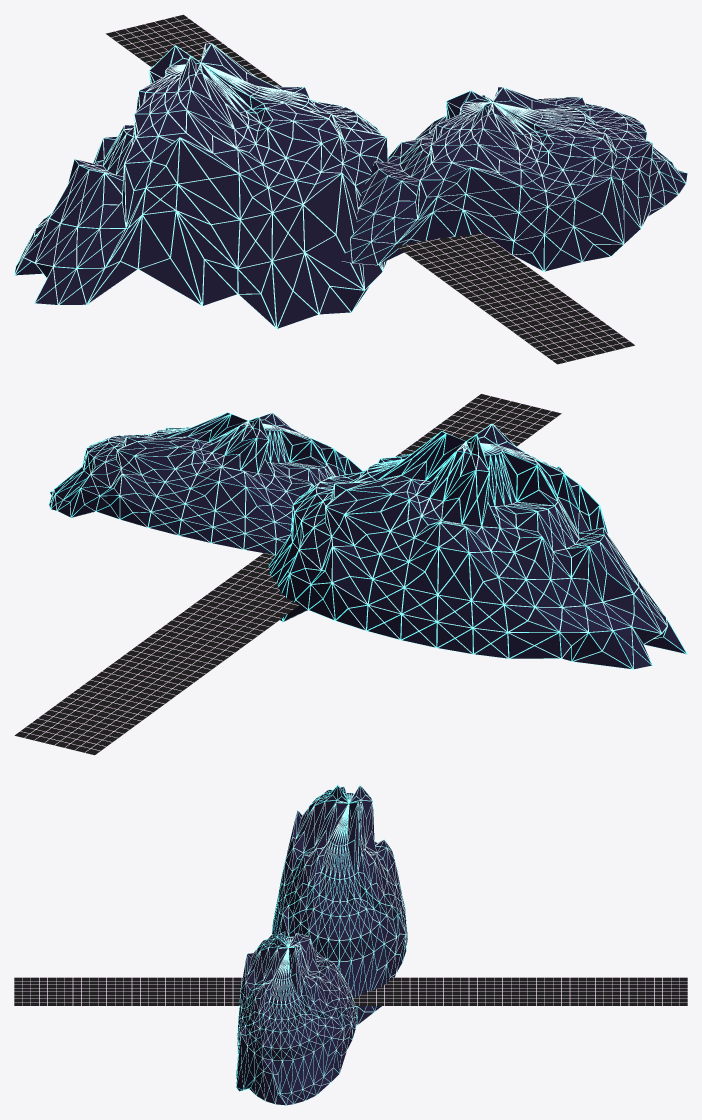
The model's file is vaporwave_grid_animated.glb.
The picture shows the model from 3 angles, top to bottom: view 1: azimuth 30°, elevation 25°; view 2: azimuth 150°, elevation 25°; view 3: azimuth 270°, elevation 25°; orthographic projection. The views are drawn at different scales.
Visible parts, largest first — view 1: mountain.001, mountain, Plane; view 2: mountain.001, mountain, Plane; view 3: mountain.001, mountain, Plane.
Part boxes in pixels (x1=…): mountain.001: x1=14, y1=43, x2=388, y2=329; mountain: x1=342, y1=87, x2=687, y2=271; Plane: x1=105, y1=14, x2=635, y2=364; mountain.001: x1=268, y1=423, x2=687, y2=669; mountain: x1=48, y1=412, x2=362, y2=555; Plane: x1=14, y1=393, x2=561, y2=755; mountain.001: x1=271, y1=784, x2=407, y2=1025; mountain: x1=236, y1=931, x2=356, y2=1105; Plane: x1=14, y1=977, x2=687, y2=1005.
Size of the model in its own units: 478 by 179 by 589.
